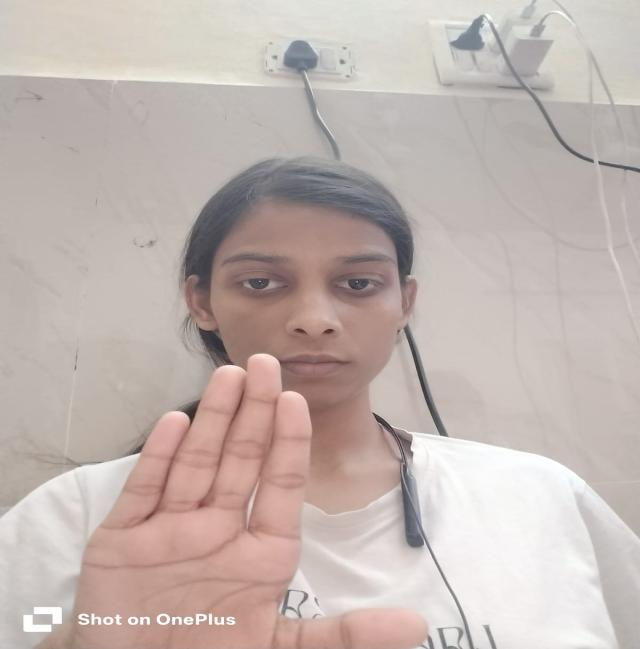Hello: (31, 343, 444, 649)
